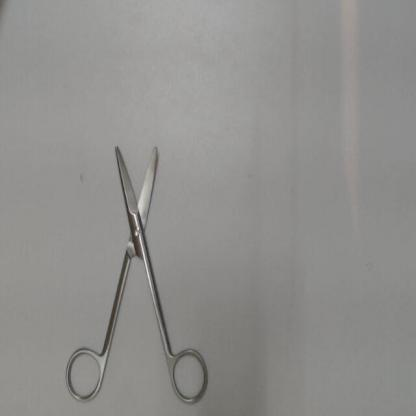Curved Mayo Scissors: (60, 132, 212, 410)
